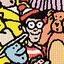waldo: (18, 4, 48, 42)
